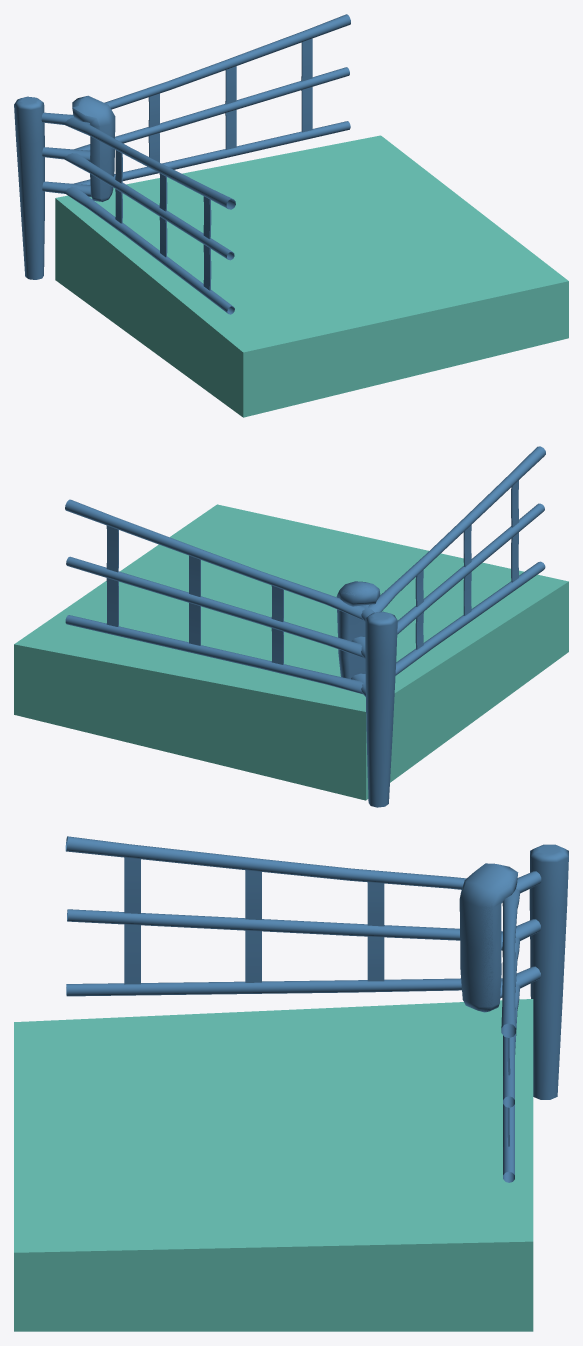
Rendered from ArenaCorner.fbx.
3 views of the same model, one above another, from view 1: azimuth 30°, elevation 25°; view 2: azimuth 150°, elevation 25°; view 3: azimuth 270°, elevation 25° (orthographic). The views are drawn at different scales.
Visible parts, largest first — view 1: Base, Ropes, Pad; view 2: Base, Ropes, RopeGraphics; view 3: Base, Ropes, Pad.
Part boxes in pixels (x1,y1,x2,y2): Base: (55,135,568,417); Ropes: (14,14,350,314); Pad: (72,96,115,201); Base: (14,504,568,800); Ropes: (65,446,545,807); RopeGraphics: (65,615,257,665); Base: (14,999,533,1331); Ropes: (65,836,568,1182); Pad: (460,863,517,1011).
Size of the model in its own units: 23.02 by 12.45 by 22.36.
